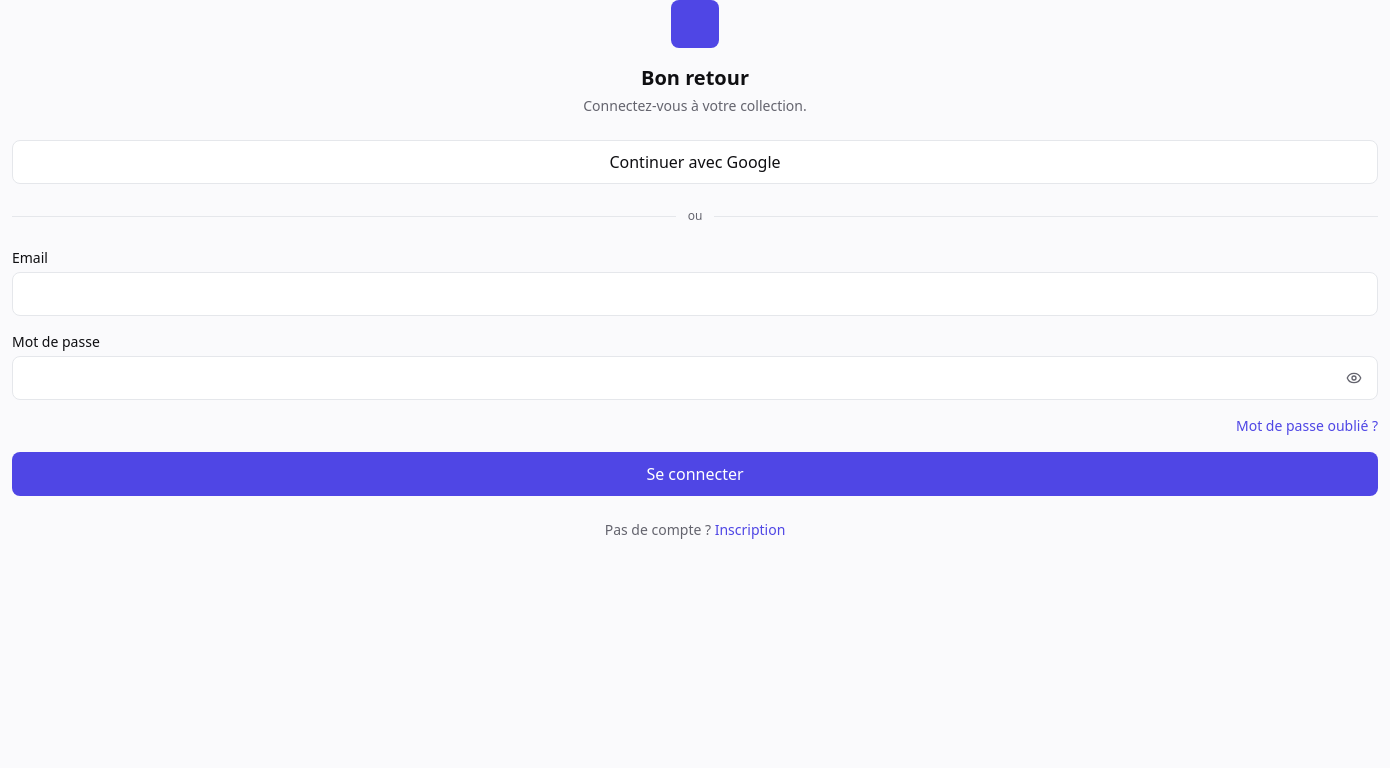
Scenario: LoginPage › validates email on blur
In the field labelled "Email": (695, 294) [12,272,1378,316], type "not-an-email"
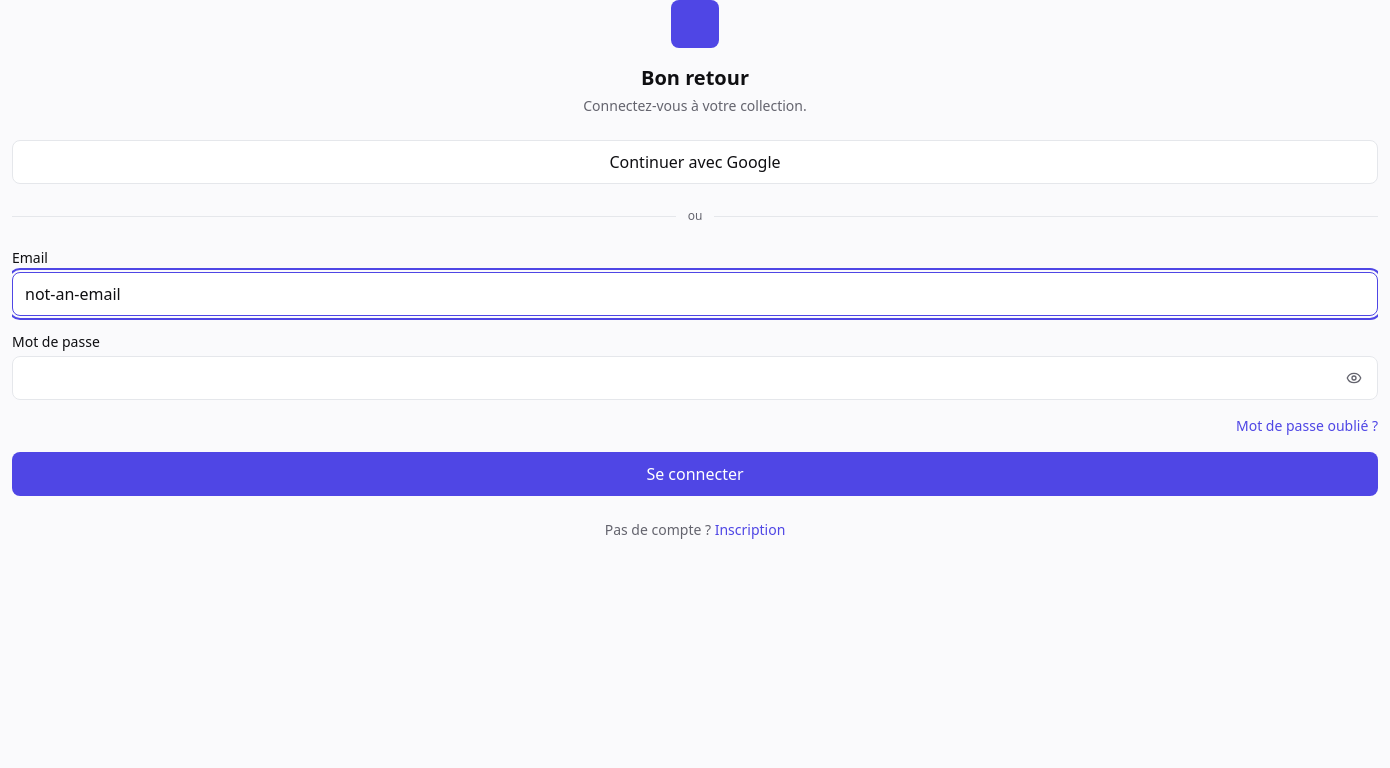
Press Tab
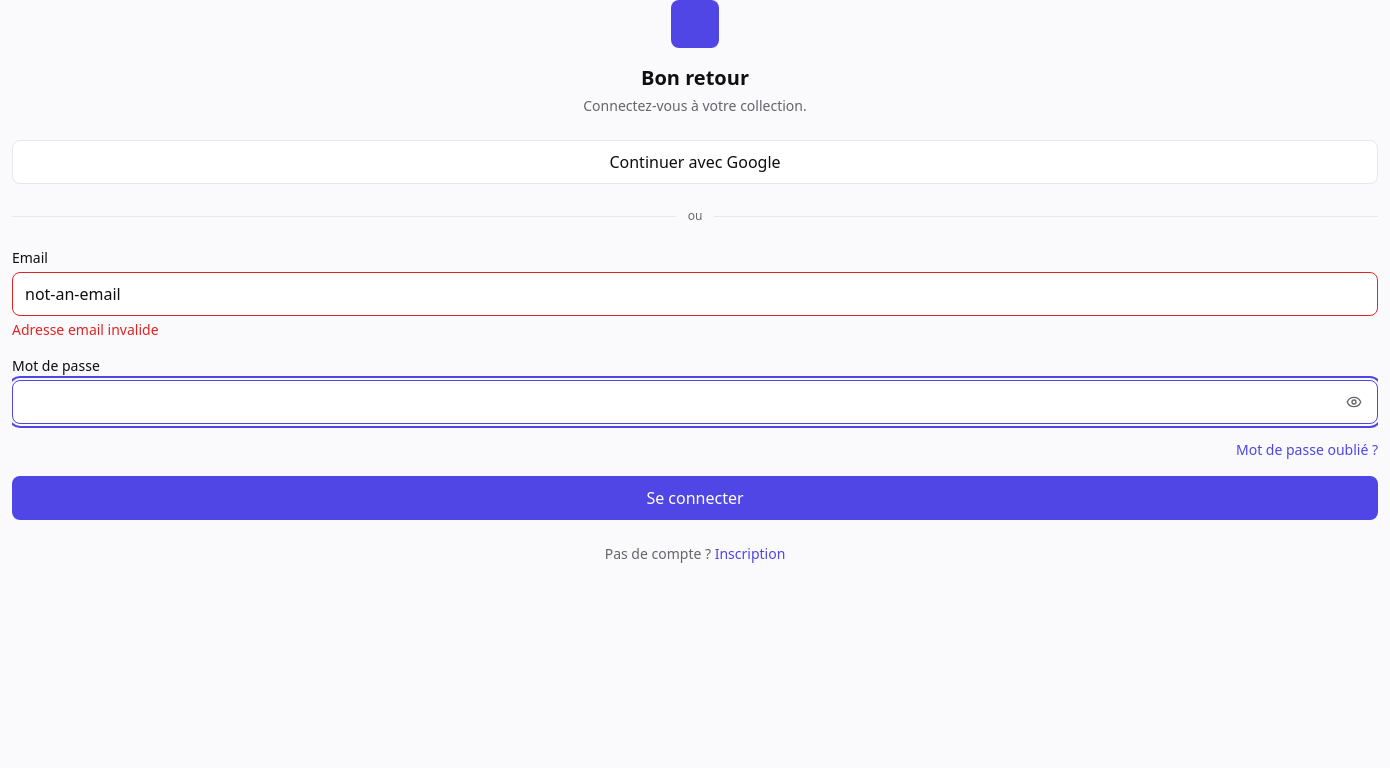
Expected: the text "Adresse email invalide" is shown, [12,320,159,339]
